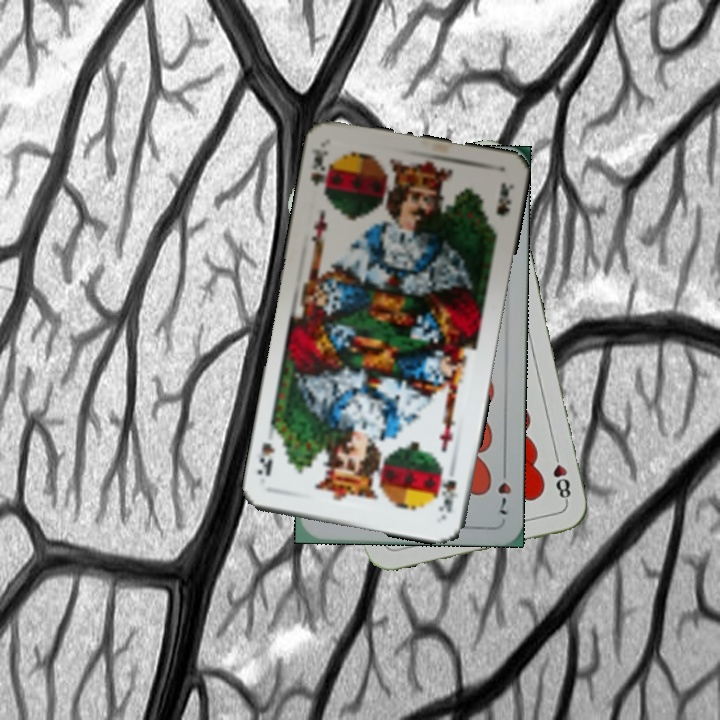H7: (493, 461, 514, 518)
H8: (549, 447, 573, 505)
SK: (307, 145, 334, 199), (434, 475, 462, 515)
